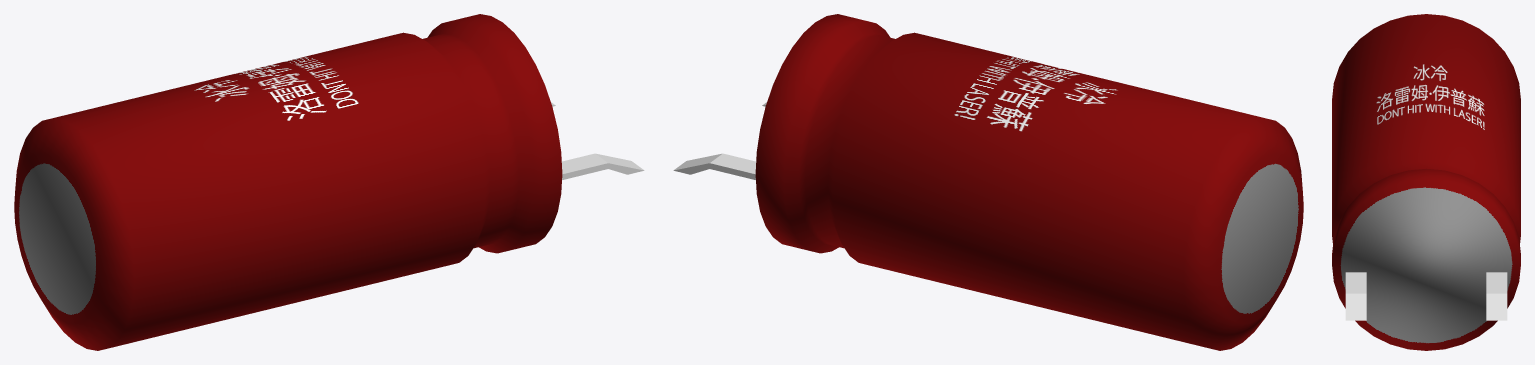
The model's file is XOR.fbx.
The picture shows the model from 3 angles, left to right: view 1: azimuth 30°, elevation 25°; view 2: azimuth 150°, elevation 25°; view 3: azimuth 270°, elevation 25°; orthographic projection. The views are drawn at different scales.
Parts seen in each view (by area): view 1: Cylinder.004; view 2: Cylinder.004; view 3: Cylinder.004.
Part boxes in pixels (<box>): Cylinder.004: <box>14,14,644,350</box>; Cylinder.004: <box>673,14,1303,350</box>; Cylinder.004: <box>1332,14,1520,350</box>.
Size of the model in its own units: 350 by 134 by 134.
Materials: 2 (1 with a texture image).
